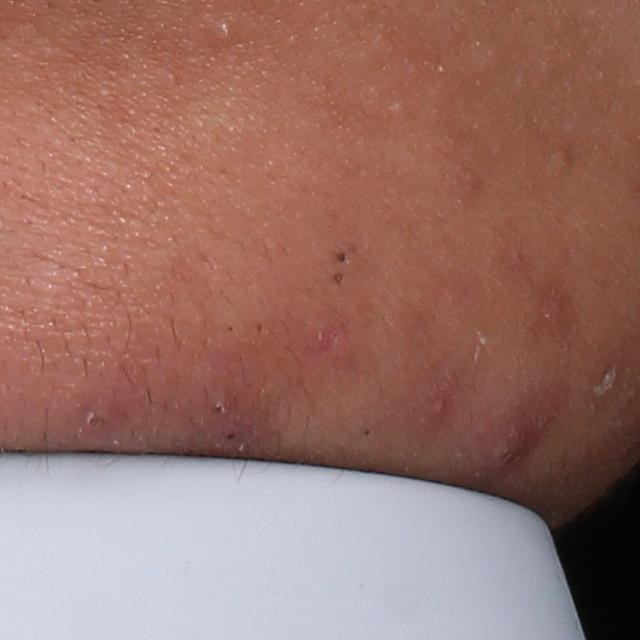comedo: (550, 144, 576, 176), (84, 407, 107, 428), (209, 400, 231, 417), (332, 249, 347, 266), (330, 274, 343, 288)
papule: (470, 410, 542, 471)
